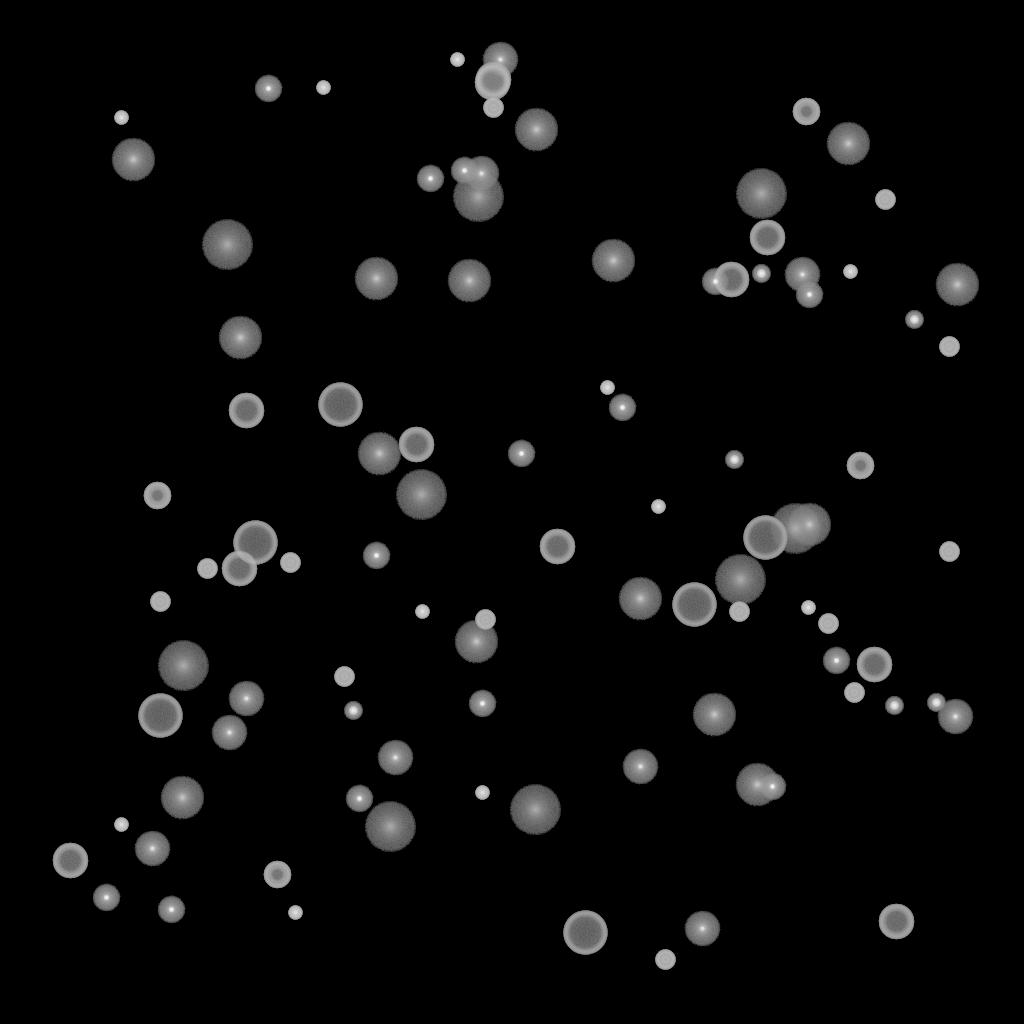depth:-10: (795, 281, 823, 309), (362, 542, 390, 570), (608, 394, 636, 422), (822, 647, 850, 675), (416, 165, 444, 193), (758, 773, 786, 801), (345, 785, 373, 813), (92, 884, 120, 912), (701, 268, 729, 296), (254, 75, 282, 103), (507, 440, 535, 468), (450, 157, 478, 185), (157, 896, 185, 924), (468, 690, 496, 718)
depth:-20: (905, 311, 923, 329), (927, 694, 945, 712), (752, 265, 770, 283), (344, 702, 362, 720), (725, 451, 743, 469), (885, 697, 903, 715)
depth:-30: (651, 500, 665, 514), (600, 381, 614, 395), (801, 601, 815, 615), (114, 111, 128, 125), (316, 81, 330, 95), (843, 265, 857, 279), (114, 818, 128, 832), (288, 906, 302, 920), (415, 605, 429, 619), (450, 53, 464, 67), (475, 786, 489, 800)
depth:-40: (875, 190, 895, 210), (483, 98, 503, 118), (844, 683, 864, 703), (150, 592, 170, 612), (729, 602, 749, 622), (818, 614, 838, 634), (475, 610, 495, 630), (939, 337, 959, 357), (939, 542, 959, 562), (334, 667, 354, 687), (655, 950, 675, 970), (197, 559, 217, 579), (280, 553, 300, 573)
depth:-50: (143, 482, 171, 510), (263, 861, 291, 889), (792, 98, 820, 126), (846, 452, 874, 480)
depth:-60: (228, 393, 264, 429), (749, 220, 785, 256), (856, 647, 892, 683), (52, 843, 88, 879), (474, 65, 510, 101), (398, 427, 434, 463), (475, 62, 511, 98), (878, 904, 914, 940), (539, 529, 575, 565), (221, 551, 257, 587), (713, 262, 749, 298)
depth:-70: (318, 383, 362, 427), (672, 583, 716, 627), (233, 521, 277, 565), (563, 911, 607, 955), (138, 694, 182, 738), (743, 516, 787, 560)
depth:0: (228, 681, 264, 717), (684, 911, 720, 947), (463, 156, 499, 192), (784, 257, 820, 293), (482, 42, 518, 78), (134, 831, 170, 867), (377, 740, 413, 776), (622, 749, 658, 785), (211, 715, 247, 751), (937, 699, 973, 735)
depth:10: (447, 259, 491, 303), (787, 503, 831, 547), (111, 138, 155, 182), (454, 620, 498, 664), (692, 693, 736, 737), (618, 577, 662, 621), (591, 239, 635, 283), (735, 763, 779, 807), (160, 776, 204, 820), (826, 122, 870, 166), (357, 432, 401, 476), (514, 108, 558, 152), (935, 263, 979, 307), (354, 257, 398, 301), (218, 316, 262, 360)
depth:20: (395, 470, 447, 520), (201, 220, 253, 270), (735, 169, 787, 219), (509, 785, 561, 835), (452, 172, 504, 222), (364, 802, 416, 852), (714, 555, 766, 605), (157, 641, 209, 691), (769, 504, 821, 554)
